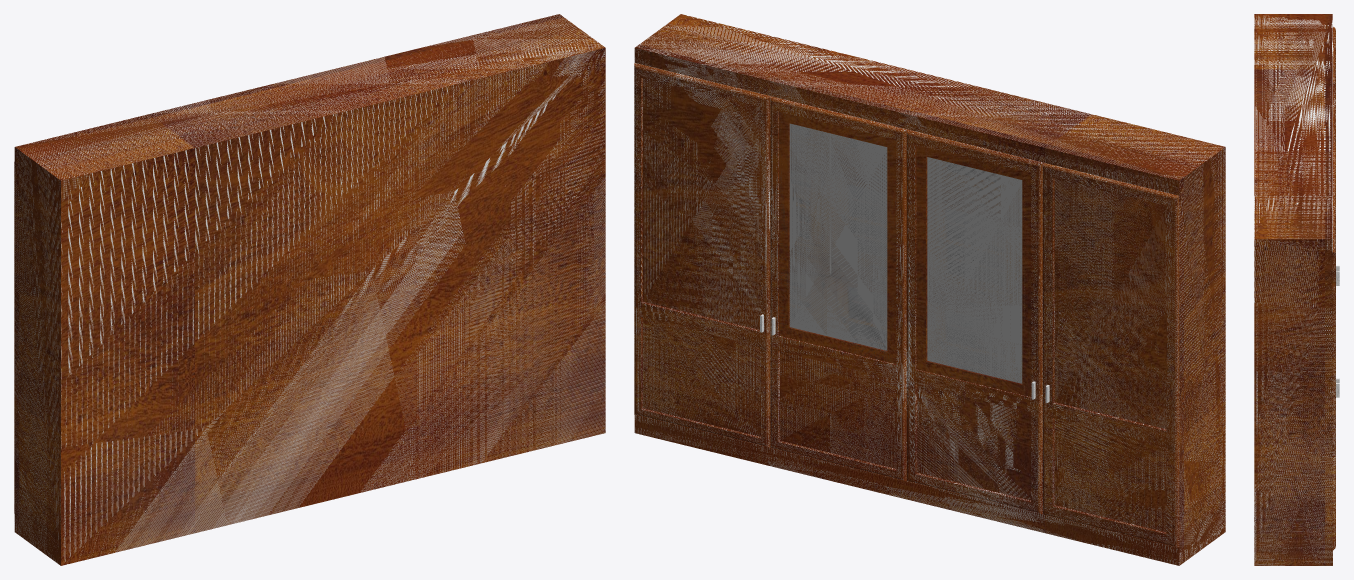
3 views of the same model, side by side, from view 1: azimuth 30°, elevation 25°; view 2: azimuth 150°, elevation 25°; view 3: azimuth 270°, elevation 25° (orthographic). The views are drawn at different scales.
Parts seen in each view (by area): view 1: mesh1_mesh1-geometry; view 2: mesh1_mesh1-geometry; view 3: mesh1_mesh1-geometry.
Part boxes in pixels (x1,y1,x2,y2): mesh1_mesh1-geometry: (14,14,605,565); mesh1_mesh1-geometry: (634,14,1225,565); mesh1_mesh1-geometry: (1254,14,1339,565).
Bounding box in the file's own units: 0.8214 × 0.555 × 0.1312.
